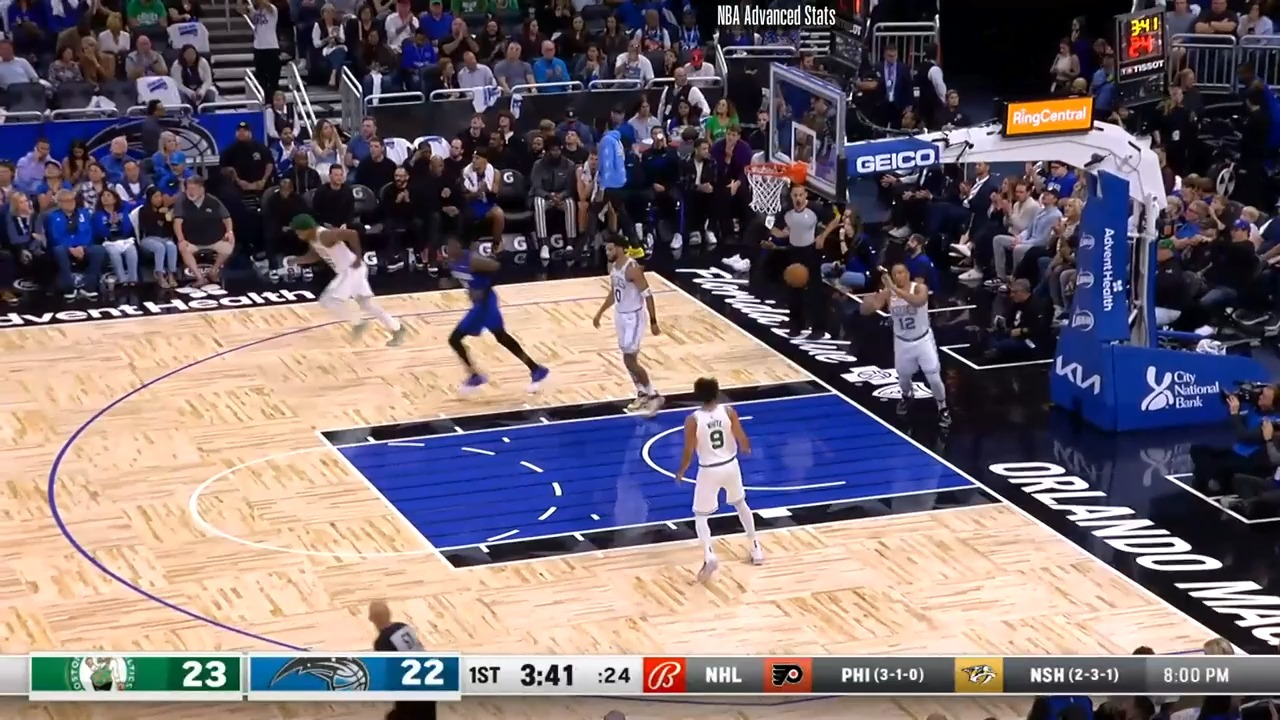net: (744, 154, 812, 217)
player: (850, 255, 955, 437), (433, 233, 545, 400), (678, 374, 767, 573), (287, 212, 407, 351), (586, 236, 666, 415)
referee: (348, 596, 447, 718), (766, 182, 832, 343)
